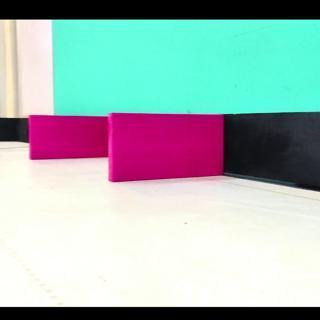xparking: (110, 116, 223, 174), (31, 116, 107, 158)
